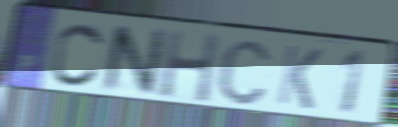1: (338, 47, 368, 117)
C: (215, 36, 274, 108), (49, 21, 107, 90)
H: (157, 27, 222, 106)
K: (274, 42, 326, 113)
N: (99, 23, 169, 98)
